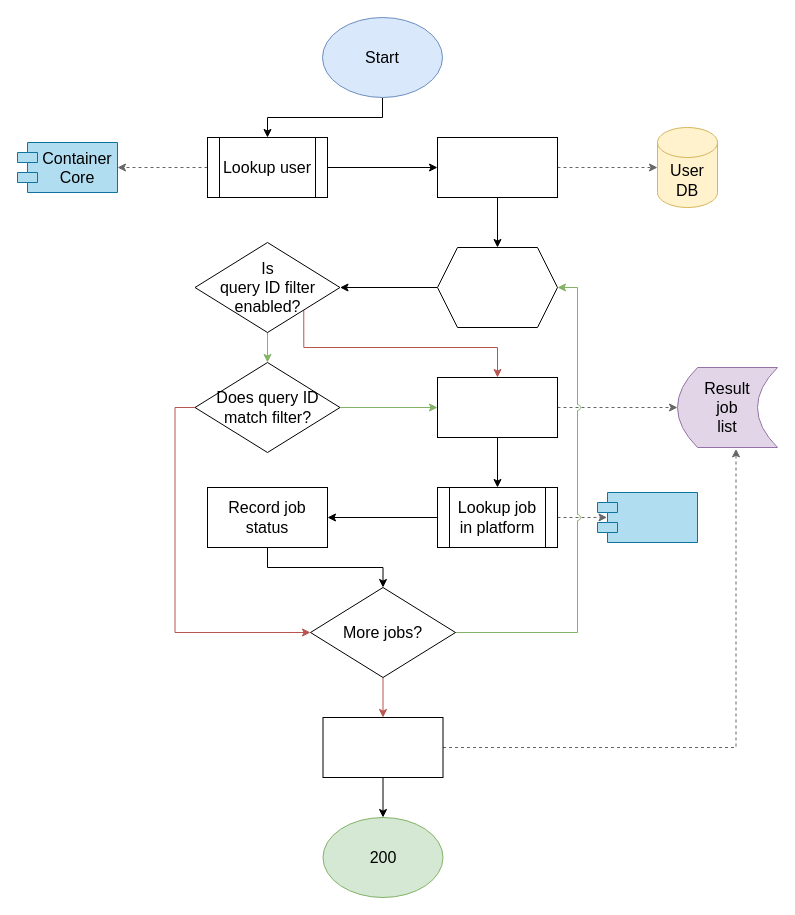
The diagram is 795 pixels wide and 915 high, and some of its shapes have lost their labels. The box of each missing label's shape, as (x1, y1, x2, y2) in pixels:
Add job to result list: (436, 376, 558, 438)
Async Platform: (596, 492, 698, 542)
For each job: (436, 246, 558, 328)
Lookup jobs linked to user: (436, 136, 558, 198)
Results to JSON: (322, 716, 443, 778)
